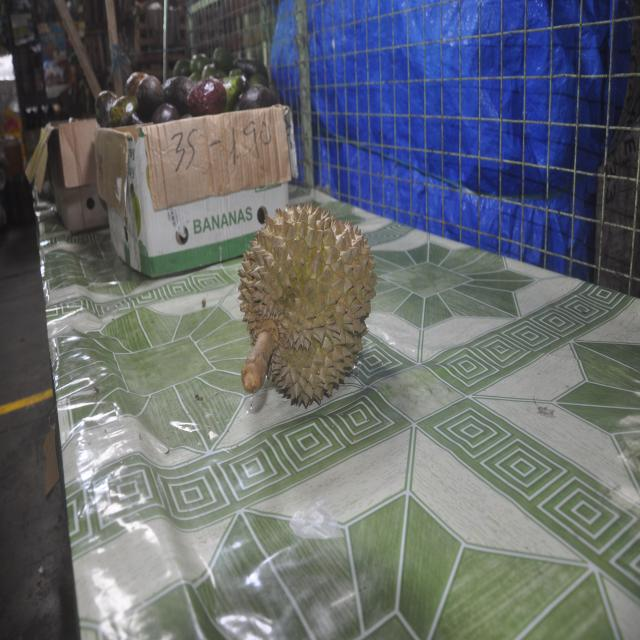mature: (238, 203, 377, 408)
